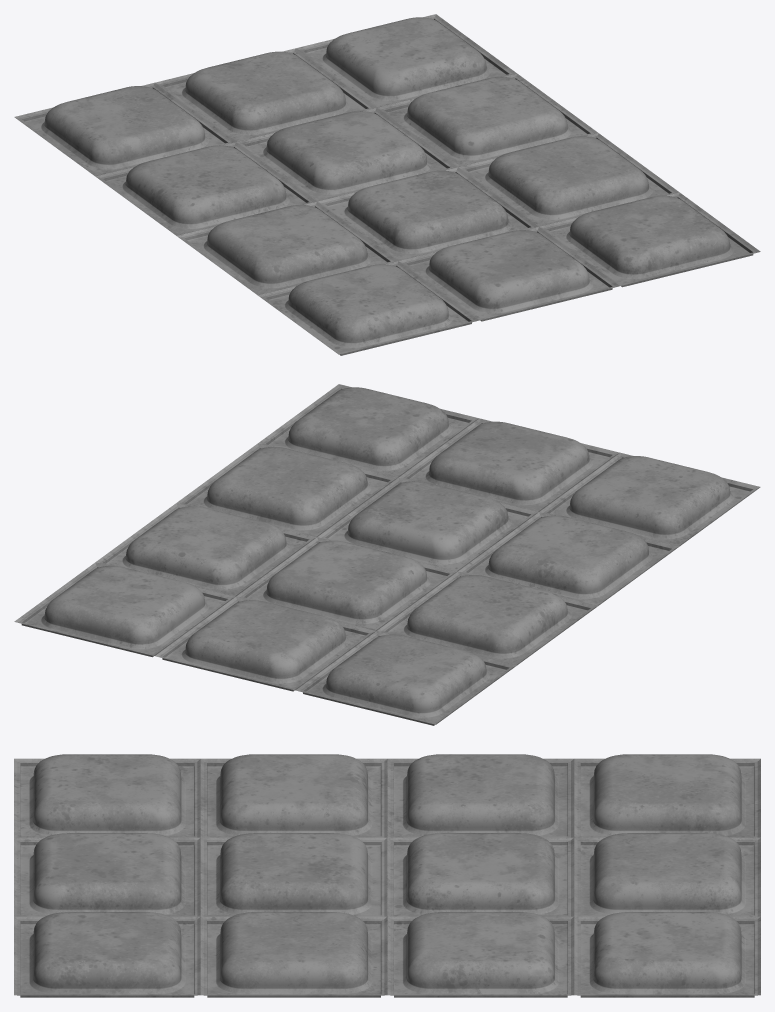
Rendered from SM_Ceiling_03.fbx.
The picture shows the model from 3 angles, top to bottom: view 1: azimuth 30°, elevation 25°; view 2: azimuth 150°, elevation 25°; view 3: azimuth 270°, elevation 25°; orthographic projection. The views are drawn at different scales.
Visible parts, largest first — view 1: SM_Ceiling_03; view 2: SM_Ceiling_03; view 3: SM_Ceiling_03.
Boxes of the visible parts, bbox=[...] form: SM_Ceiling_03: bbox=[14, 14, 760, 355]; SM_Ceiling_03: bbox=[14, 384, 760, 725]; SM_Ceiling_03: bbox=[14, 754, 760, 997].
Size of the model in its own units: 300 by 14.2 by 400.
